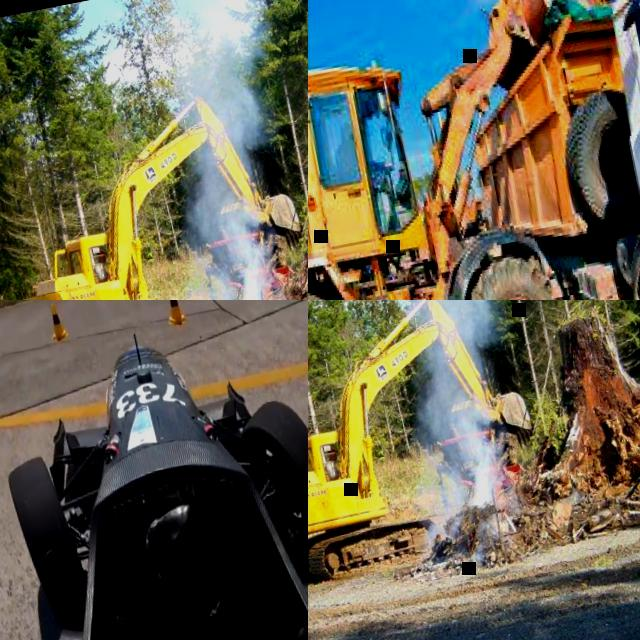machinery: (308, 0, 640, 300), (308, 300, 555, 593), (0, 78, 308, 300), (431, 0, 640, 300)
person: (332, 119, 384, 187), (90, 250, 110, 282), (322, 448, 341, 481)
safety_cone: (45, 300, 71, 345), (161, 300, 189, 331)
vehicle: (0, 300, 308, 640)
